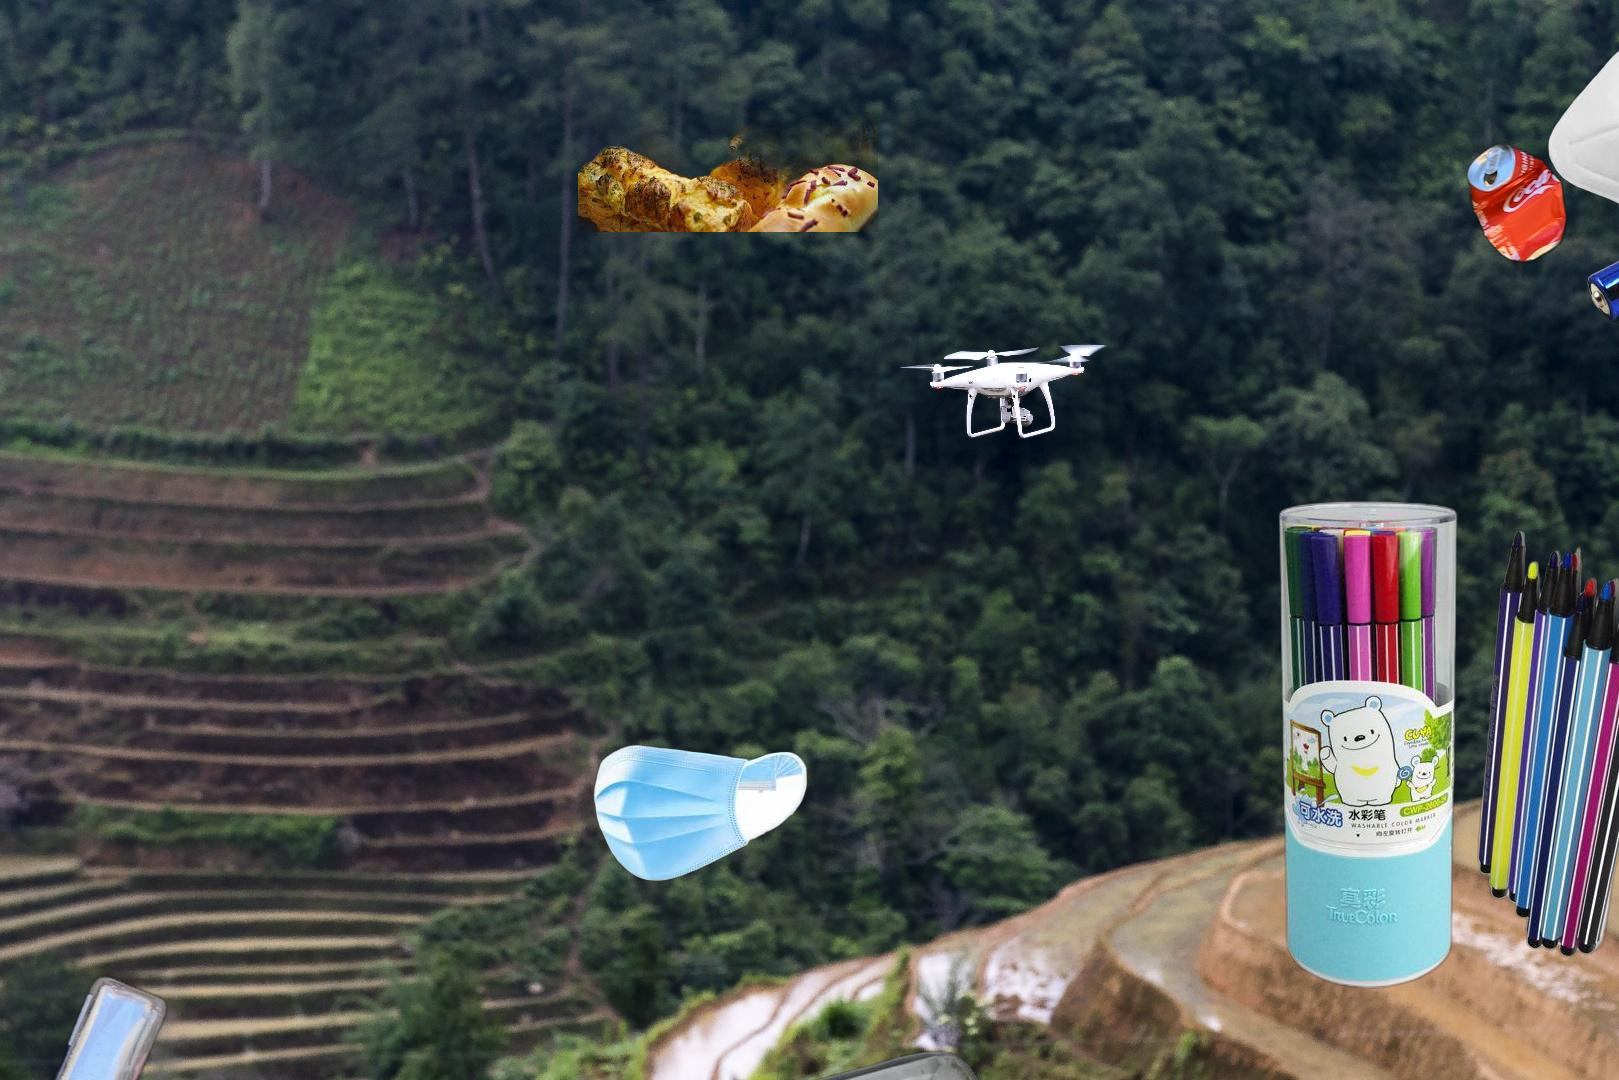battery: (1585, 209, 1619, 325)
biological: (577, 64, 878, 231)
glass: (534, 1047, 998, 1080)
metal-cans: (1462, 137, 1571, 269)
penholder: (1274, 497, 1619, 993)
plastic-bottles: (24, 969, 171, 1080)
trash: (591, 742, 811, 884), (1517, 41, 1619, 210)
